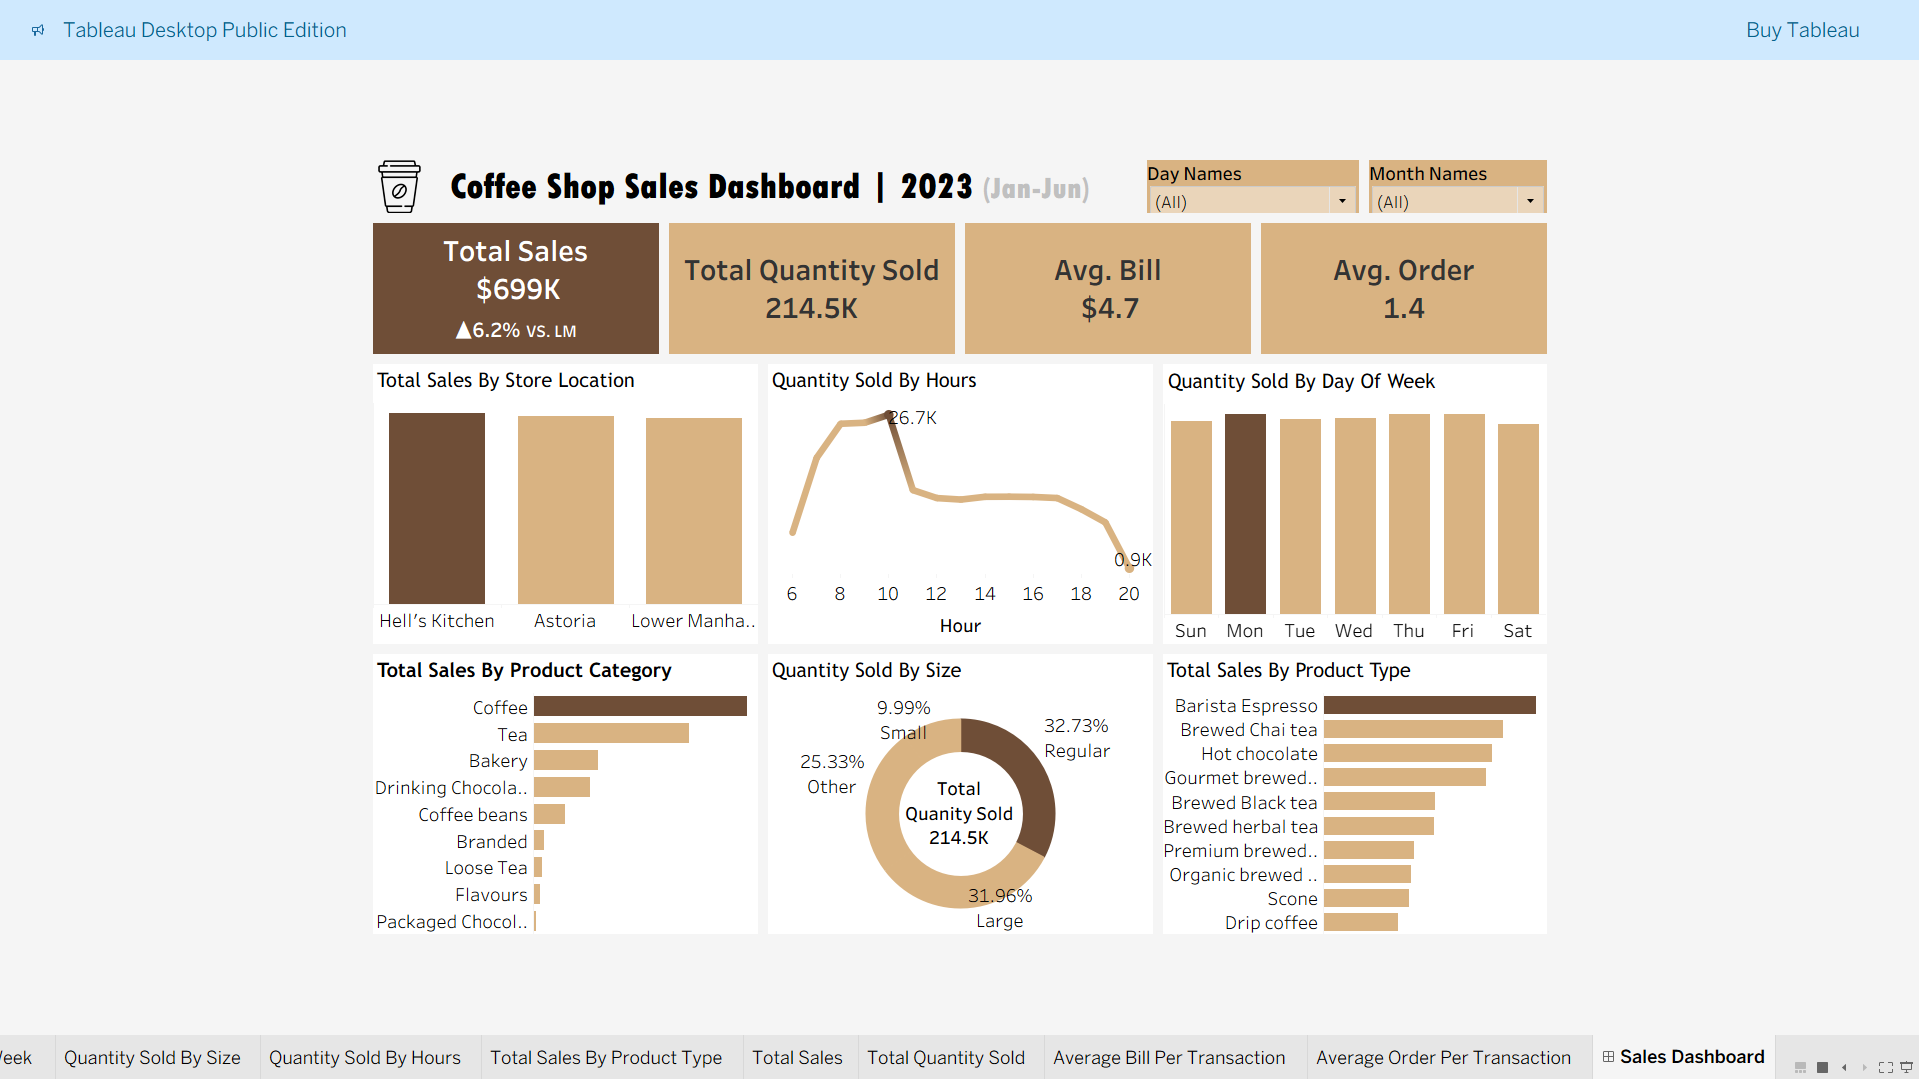

The page's visual inventory and layout, read from the dashboard file:
{"tool":"tableau","page":{"name":"Sales Dashboard","canvas":[1200,800],"ordinal":0},"visuals":[{"type":"image","param":"Image/coffee.png","box":[8,8,73,63]},{"type":"text","box":[81,8,701,63]},{"type":"filter","title":"Product Category By Total Bill","param":"[federated.1alfixe1syxkye19zyzmj1h39voz].[none:day_name:nk]","box":[782,8,222,63]},{"type":"filter","title":"Product Category By Total Bill","param":"[federated.1alfixe1syxkye19zyzmj1h39voz].[none:month_name:nk]","box":[1004,8,188,63]},{"type":"worksheet","title":"Total Sales","mark":"Text","box":[8,71,296,87]},{"type":"worksheet","title":"Total Quantity Sold","mark":"Text","box":[304,71,296,87]},{"type":"worksheet","title":"Average Bill Per Transaction","mark":"Text","box":[600,71,296,87]},{"type":"worksheet","title":"Average Order Per Transaction","mark":"Text","box":[896,71,296,87]},{"type":"worksheet","title":"Store Location By Total Bill","mark":"Bar","rows":["total_price"],"cols":["store_location"],"box":[8,158,395,317]},{"type":"worksheet","title":"Hours By Quantity Sold","mark":"Line","rows":["transaction_qty"],"cols":["hour"],"box":[403,158,395,317]},{"type":"worksheet","title":"Days By Quantity Sold","mark":"Bar","rows":["transaction_qty"],"cols":["day_name"],"box":[798,158,394,317]},{"type":"worksheet","title":"Product Category By Total Bill","mark":"Bar","rows":["product_category"],"cols":["total_price"],"box":[8,475,395,317]},{"type":"worksheet","title":"Size By Quantity Sold","mark":"Pie","rows":["Calculation_560135250687414277","Calculation_560135250687602695"],"box":[403,475,395,317]},{"type":"worksheet","title":"Product Type By Total Bill","mark":"Bar","rows":["product_type"],"cols":["total_price"],"box":[798,475,394,317]}]}

Visuals, with their boxes on the page's 1200x800 design canvas (x1, y1, x2, y2). These are canvas units, not pixel positions in the 1919x1079 screenshot, which may show the page scaled, cropped or inside an application window:
image: BBox(8, 8, 81, 71)
text: BBox(81, 8, 782, 71)
"Product Category By Total Bill" filter: BBox(782, 8, 1004, 71)
"Product Category By Total Bill" filter: BBox(1004, 8, 1192, 71)
"Total Sales" worksheet (Text marks): BBox(8, 71, 304, 158)
"Total Quantity Sold" worksheet (Text marks): BBox(304, 71, 600, 158)
"Average Bill Per Transaction" worksheet (Text marks): BBox(600, 71, 896, 158)
"Average Order Per Transaction" worksheet (Text marks): BBox(896, 71, 1192, 158)
"Store Location By Total Bill" worksheet (Bar marks): BBox(8, 158, 403, 475)
"Hours By Quantity Sold" worksheet (Line marks): BBox(403, 158, 798, 475)
"Days By Quantity Sold" worksheet (Bar marks): BBox(798, 158, 1192, 475)
"Product Category By Total Bill" worksheet (Bar marks): BBox(8, 475, 403, 792)
"Size By Quantity Sold" worksheet (Pie marks): BBox(403, 475, 798, 792)
"Product Type By Total Bill" worksheet (Bar marks): BBox(798, 475, 1192, 792)
